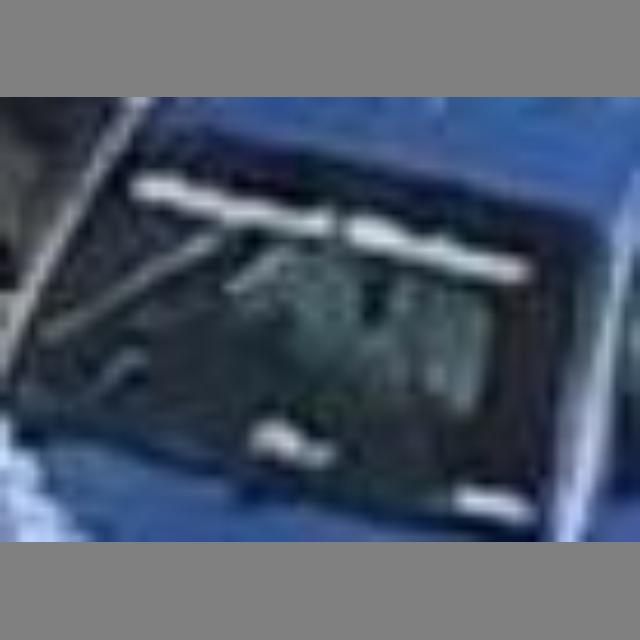tidak-pakai: (195, 171, 492, 440)
